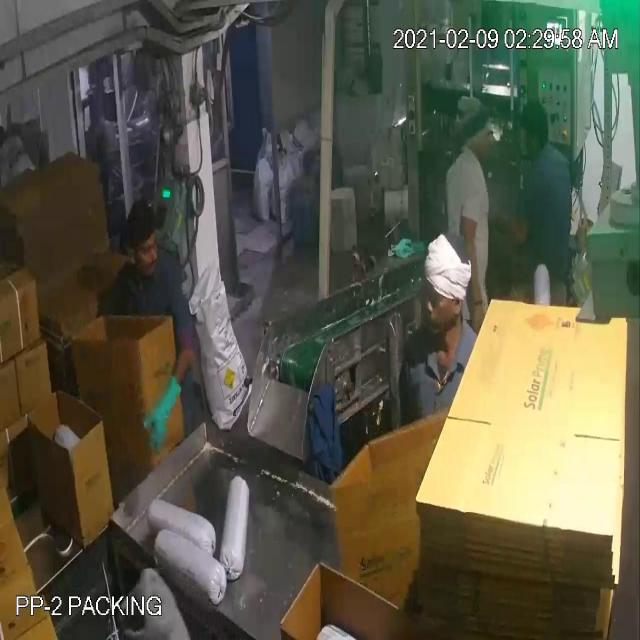Gloves: (46, 116, 478, 408)
